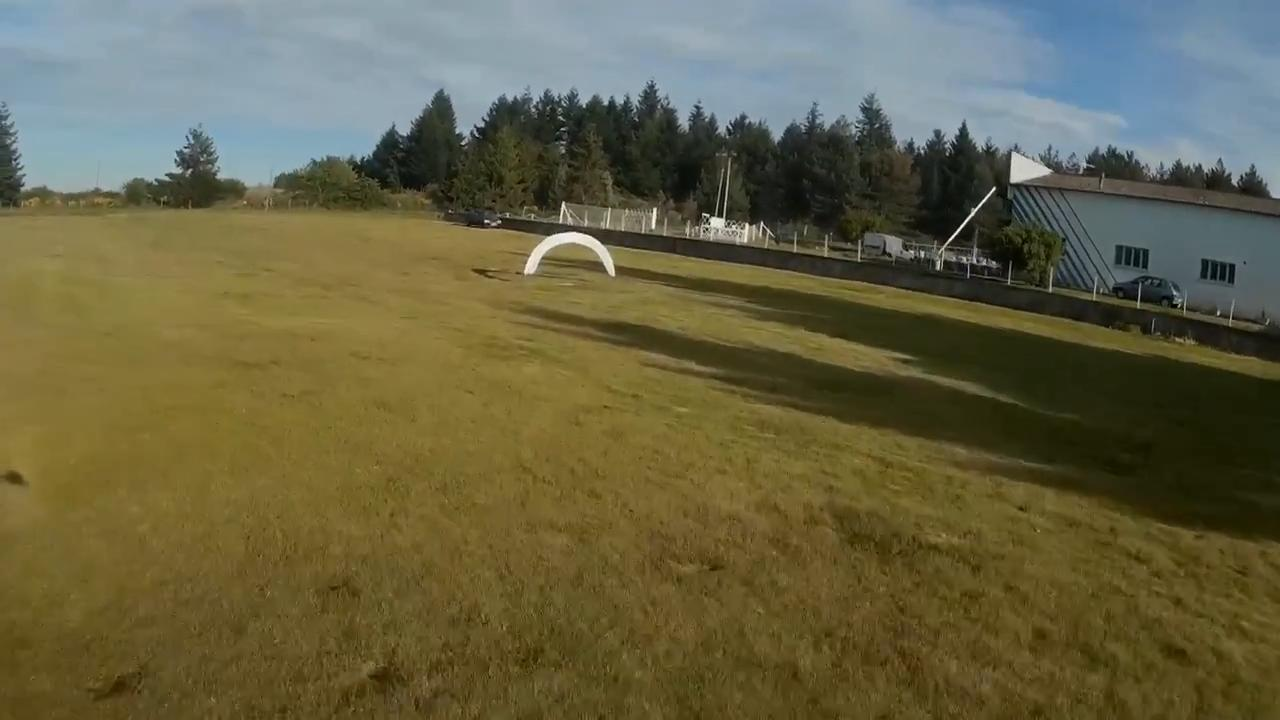gate: (524, 230, 616, 277)
